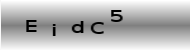5: (110, 9, 123, 22)
C: (90, 21, 104, 34)
E: (25, 18, 37, 33)
d: (71, 20, 84, 34)
i: (51, 23, 57, 37)
